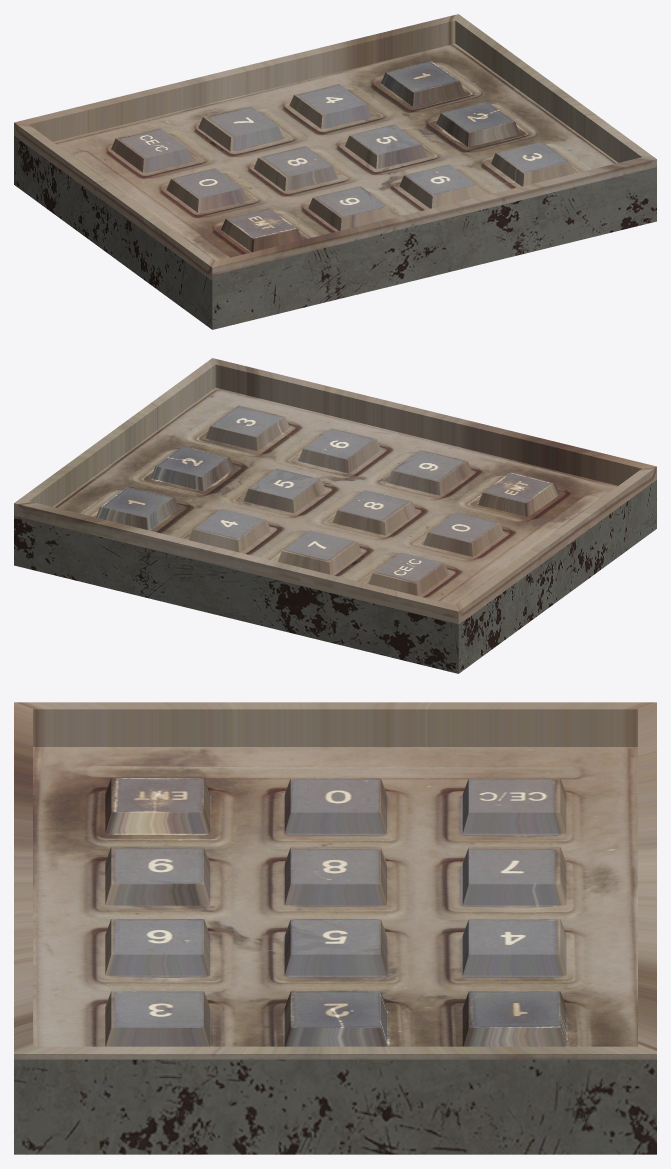
The model's file is Keypad.fbx.
3 renders of one model, top to bottom at view 1: azimuth 30°, elevation 25°; view 2: azimuth 150°, elevation 25°; view 3: azimuth 270°, elevation 25°, orthographic. The views are drawn at different scales.
Visible parts, largest first — view 1: Box001, Object008, Object009, Object002, Object010, Object003, Object004, Object005, Object006, Object007, Object011, Object012 (+1 smaller); view 2: Box001, Object010, Object004, Object009, Object003, Object007, Object008, Object006, Object002, Object013, Object012, Object005 (+1 smaller); view 3: Box001, Object010, Object008, Object009, Object007, Object005, Object013, Object004, Object011, Object006, Object002, Object012 (+1 smaller).
Boxes of the visible parts, x1=… form: Box001: x1=14, y1=14, x2=656, y2=329; Object008: x1=198, y1=105, x2=282, y2=151; Object009: x1=253, y1=146, x2=337, y2=191; Object002: x1=381, y1=61, x2=464, y2=106; Object010: x1=308, y1=186, x2=392, y2=230; Object003: x1=436, y1=101, x2=519, y2=146; Object004: x1=491, y1=141, x2=574, y2=186; Object005: x1=289, y1=84, x2=371, y2=128; Object006: x1=345, y1=124, x2=426, y2=169; Object007: x1=399, y1=164, x2=481, y2=208; Object011: x1=111, y1=127, x2=192, y2=172; Object012: x1=166, y1=168, x2=247, y2=212; Box001: x1=14, y1=358, x2=656, y2=673; Object010: x1=387, y1=449, x2=472, y2=495; Object004: x1=205, y1=405, x2=289, y2=450; Object009: x1=332, y1=490, x2=416, y2=535; Object003: x1=151, y1=446, x2=234, y2=490; Object007: x1=298, y1=428, x2=381, y2=473; Object008: x1=278, y1=530, x2=361, y2=574; Object006: x1=244, y1=468, x2=325, y2=513; Object002: x1=96, y1=486, x2=179, y2=530; Object013: x1=478, y1=472, x2=559, y2=516; Object012: x1=423, y1=512, x2=504, y2=556; Object005: x1=189, y1=508, x2=270, y2=552; Box001: x1=14, y1=702, x2=656, y2=1154; Object010: x1=105, y1=846, x2=209, y2=905; Object008: x1=462, y1=846, x2=566, y2=905; Object009: x1=284, y1=846, x2=386, y2=905; Object007: x1=105, y1=919, x2=209, y2=975; Object005: x1=462, y1=919, x2=566, y2=975; Object013: x1=105, y1=778, x2=209, y2=833; Object004: x1=105, y1=991, x2=209, y2=1046; Object011: x1=462, y1=778, x2=566, y2=833; Object006: x1=284, y1=919, x2=386, y2=975; Object002: x1=462, y1=991, x2=566, y2=1046; Object012: x1=284, y1=778, x2=386, y2=833.
Size of the model in its own units: 40.16 by 5.37 by 31.04.
1 material, 1 textured.
